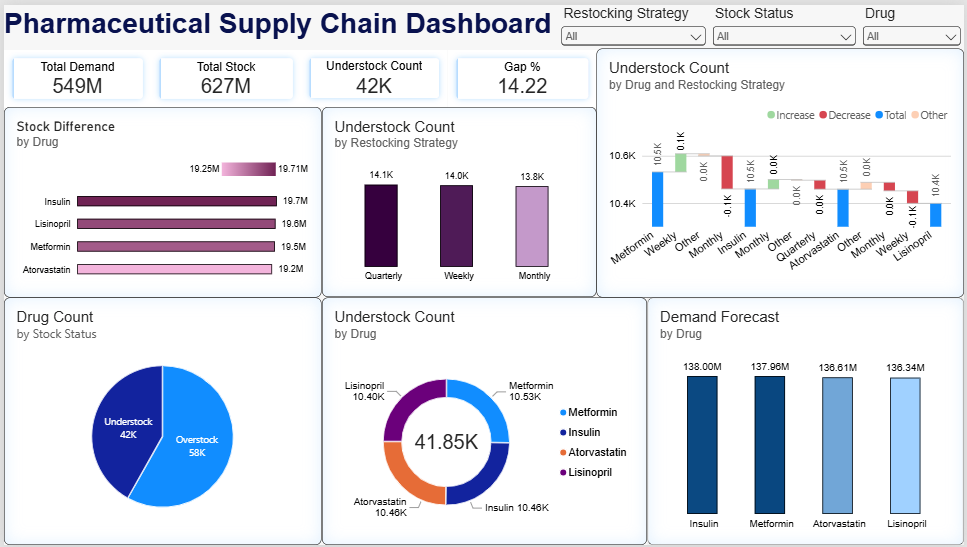

The page's visual inventory and layout, read from the dashboard file:
{"tool":"powerbi","page":{"name":"Supply Chain Stock Risk Analysis","canvas":[1280,720],"ordinal":0},"visuals":[{"type":"slicer","fields":{"Values":["pharmaceutical_supply_chain supply_data.Stock_Status"]},"box":[940,0,200,58],"z":0},{"type":"slicer","fields":{"Values":["pharmaceutical_supply_chain supply_data.Drug"]},"box":[1140,0,140,58.8],"z":1000},{"type":"slicer","fields":{"Values":["pharmaceutical_supply_chain supply_data.Restocking_Strategy"]},"box":[738,0,202,58],"z":2000},{"type":"cardVisual","fields":{"Data":["Pharmaceutical_Measures.Total Demand"]},"box":[0,60,196.7,76.7],"z":3000},{"type":"cardVisual","fields":{"Data":["Pharmaceutical_Measures.Total Stock"]},"box":[196.7,60,200,76.7],"z":4000},{"type":"cardVisual","fields":{"Data":["Pharmaceutical_Measures.Understock Count"]},"box":[396.5,60.6,195.3,75.9],"z":5000},{"type":"cardVisual","fields":{"Data":["Pharmaceutical_Measures.Gap %"]},"box":[591.7,60,198.3,76.7],"z":6000},{"type":"pieChart","title":"Drug Count","fields":{"Category":["pharmaceutical_supply_chain supply_data.Stock_Status"],"Y":["Pharmaceutical_Measures.Drug Count"]},"box":[0,390,423.3,330],"z":7000},{"type":"clusteredColumnChart","title":"Understock Count","fields":{"Category":["pharmaceutical_supply_chain supply_data.Restocking_Strategy"],"Y":["Pharmaceutical_Measures.Understock Count"]},"box":[423.9,136.7,366.1,253.3],"z":8000},{"type":"clusteredColumnChart","title":"Demand Forecast","fields":{"Category":["pharmaceutical_supply_chain supply_data.Drug"],"Y":["Sum(pharmaceutical_supply_chain supply_data.Demand_Forecast)"]},"box":[858,390,422,330],"z":9000},{"type":"clusteredBarChart","title":"Stock Difference","fields":{"Category":["pharmaceutical_supply_chain supply_data.Drug"],"Y":["Sum(pharmaceutical_supply_chain supply_data.Stock_Difference)"]},"box":[0,136,423,254],"z":10000},{"type":"donutChart","fields":{"Category":["pharmaceutical_supply_chain supply_data.Drug"],"Y":["Pharmaceutical_Measures.Understock Count"]},"box":[424,390,433.3,330],"z":11000},{"type":"textbox","box":[0,2,738,58],"z":12000},{"type":"waterfallChart","title":"Understock Count","fields":{"Category":["pharmaceutical_supply_chain supply_data.Drug"],"Y":["Pharmaceutical_Measures.Understock Count"],"Breakdown":["pharmaceutical_supply_chain supply_data.Restocking_Strategy"]},"box":[790,58,490,332],"z":13000}]}

Visuals, with their boxes in screenshot pixels (x1, y1, x2, y2), scaled from the page's 1280x720 canvas onto the 967x547 screenshot:
slicer - pharmaceutical_supply_chain supply_data.Stock_Status: bbox=[710, 0, 861, 44]
slicer - pharmaceutical_supply_chain supply_data.Drug: bbox=[861, 0, 966, 45]
slicer - pharmaceutical_supply_chain supply_data.Restocking_Strategy: bbox=[558, 0, 710, 44]
cardVisual - Pharmaceutical_Measures.Total Demand: bbox=[0, 46, 149, 104]
cardVisual - Pharmaceutical_Measures.Total Stock: bbox=[149, 46, 300, 104]
cardVisual - Pharmaceutical_Measures.Understock Count: bbox=[300, 46, 447, 104]
cardVisual - Pharmaceutical_Measures.Gap %: bbox=[447, 46, 597, 104]
"Drug Count" pieChart: bbox=[0, 296, 320, 546]
"Understock Count" clusteredColumnChart: bbox=[320, 104, 597, 296]
"Demand Forecast" clusteredColumnChart: bbox=[648, 296, 966, 546]
"Stock Difference" clusteredBarChart: bbox=[0, 103, 320, 296]
donutChart - pharmaceutical_supply_chain supply_data.Drug x Pharmaceutical_Measures.Understock Count: bbox=[320, 296, 648, 546]
textbox: bbox=[0, 2, 558, 46]
"Understock Count" waterfallChart: bbox=[597, 44, 966, 296]
